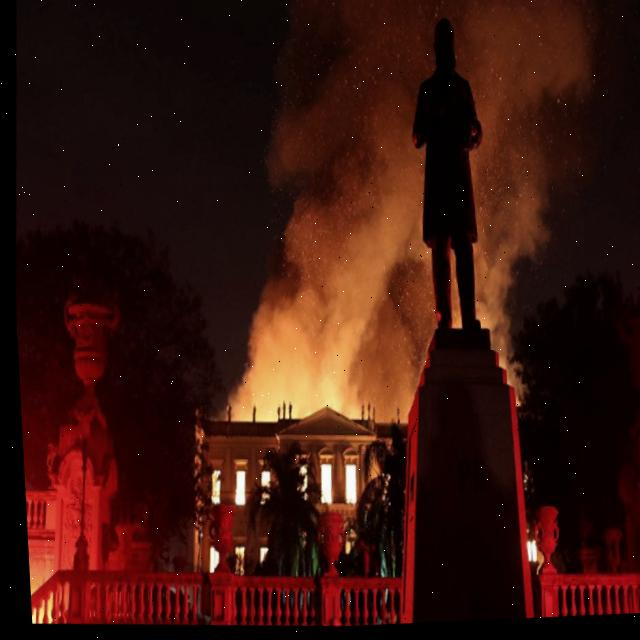fire: (186, 421, 388, 629), (20, 491, 51, 624), (520, 544, 525, 565)
smoke: (227, 0, 595, 422)
